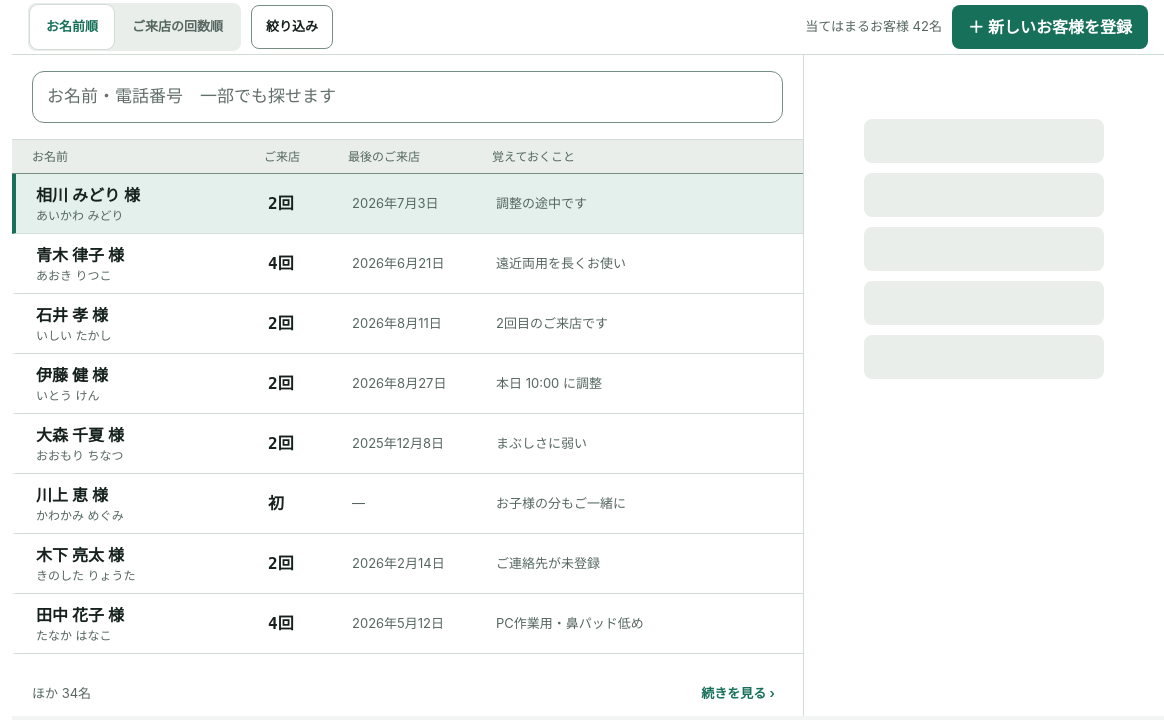
Scenario: 検索 › 「5678」と入れると 090-1234-5678 の行だけが残る
Step 1. Type "5678" into the search field named "お名前・電話番号　一部でも探せます" → (408, 97), box [32,71,783,123]
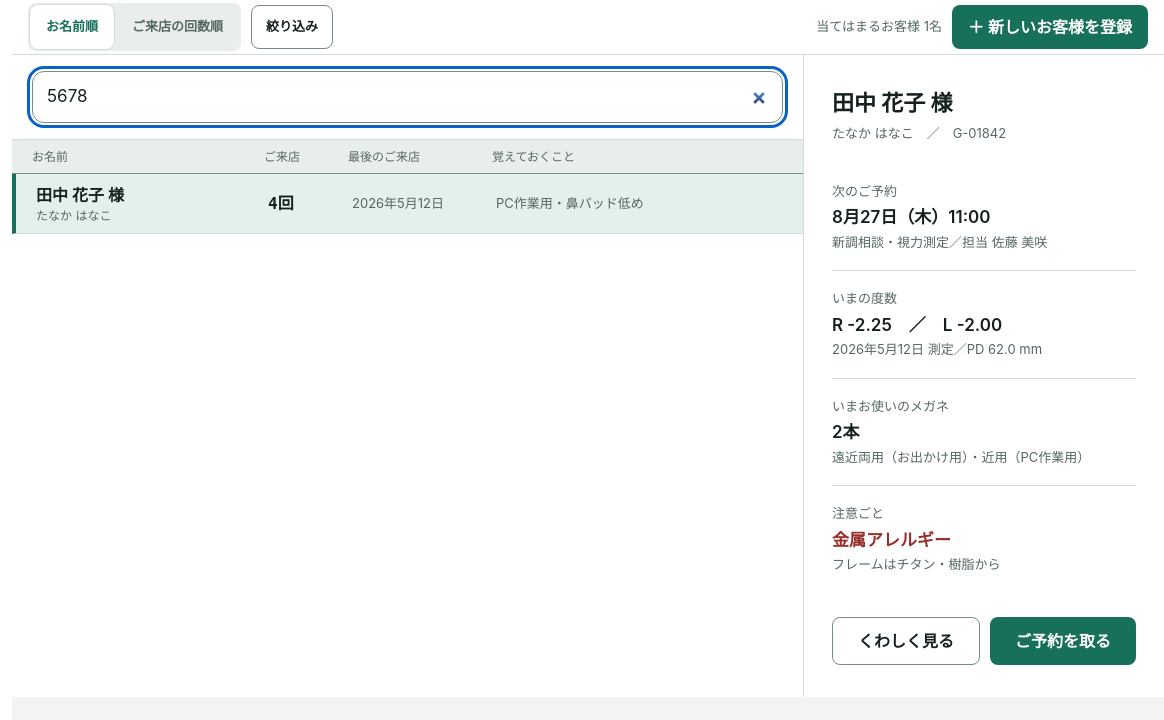
expect the text "当てはまるお客様 1名" is shown: met, box [816,17,942,37]
